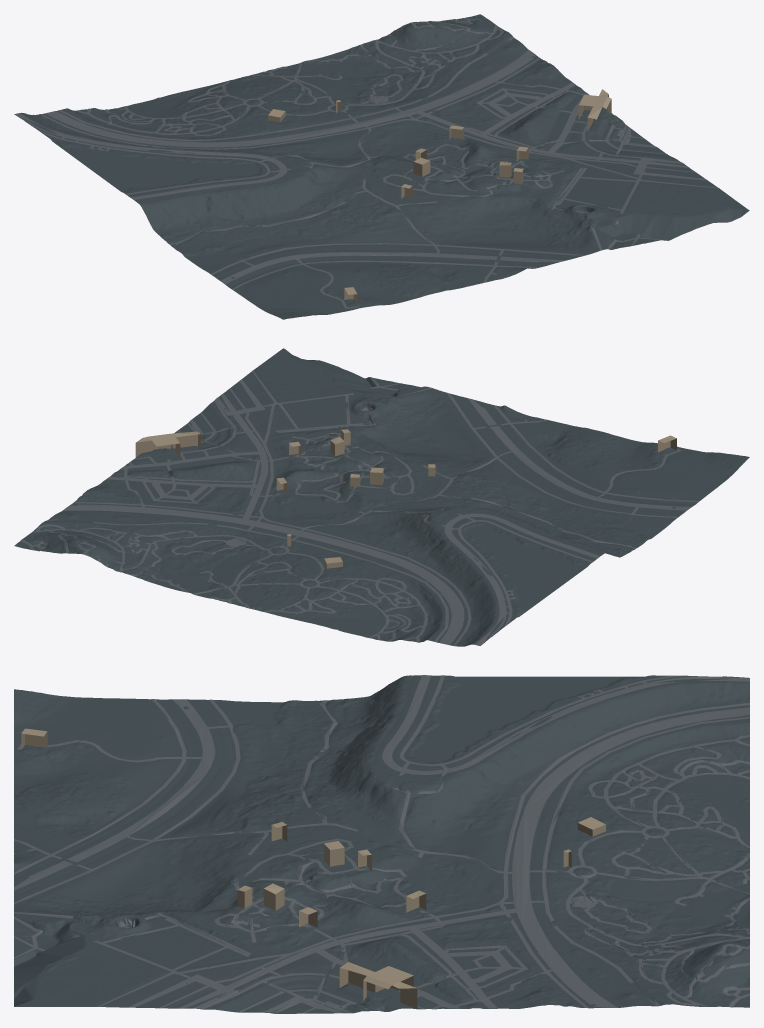
The model's file is epsg26910-1423-10886.lod0.glb.
3 views of the same model, one above another, from view 1: azimuth 30°, elevation 25°; view 2: azimuth 150°, elevation 25°; view 3: azimuth 270°, elevation 25° (orthographic). The views are drawn at different scales.
Visible parts, largest first — view 1: epsg26910-1423-10886-lod0; view 2: epsg26910-1423-10886-lod0; view 3: epsg26910-1423-10886-lod0.
Part boxes in pixels (left/top/right/bottom): epsg26910-1423-10886-lod0: left=14, top=14, right=749, bottom=319; epsg26910-1423-10886-lod0: left=14, top=348, right=749, bottom=646; epsg26910-1423-10886-lod0: left=14, top=675, right=749, bottom=1013.
Bounding box in the file's own units: 384 × 20.32 × 384.
